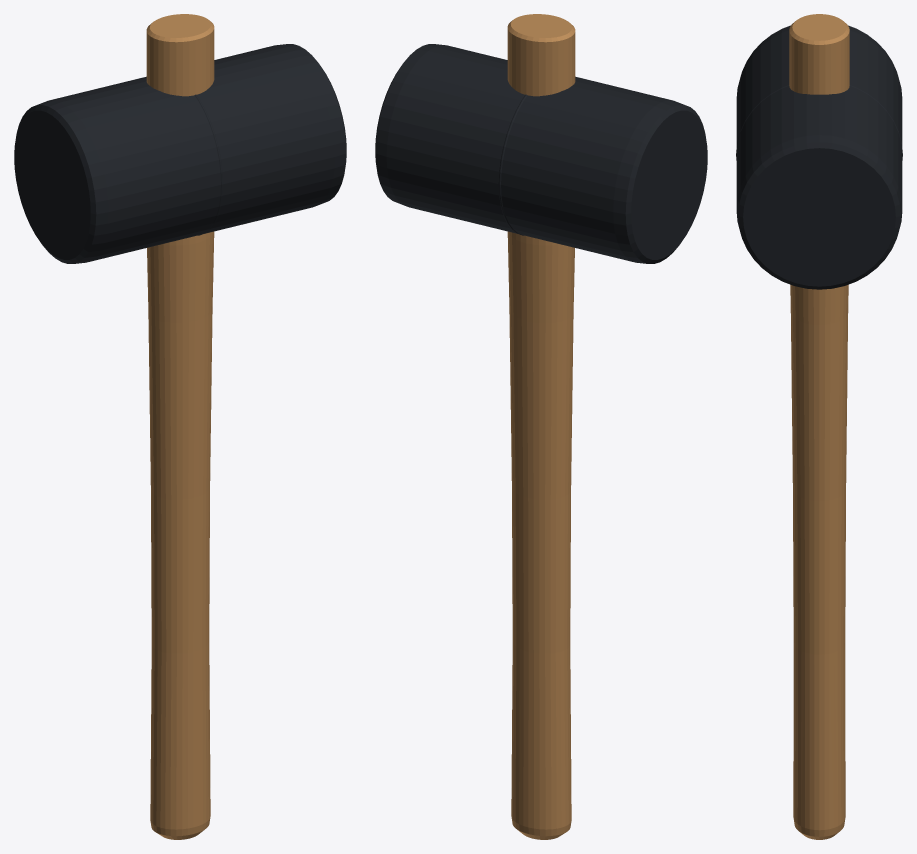
The picture shows the model from 3 angles, left to right: view 1: azimuth 30°, elevation 25°; view 2: azimuth 150°, elevation 25°; view 3: azimuth 270°, elevation 25°; orthographic projection.
Parts seen in each view (by area): view 1: Black_rubber_head_with_through_eye, Continuous_wood_handle_unbranded; view 2: Black_rubber_head_with_through_eye, Continuous_wood_handle_unbranded; view 3: Black_rubber_head_with_through_eye, Continuous_wood_handle_unbranded.
Part boxes in pixels (left/top/right/bottom): Black_rubber_head_with_through_eye: left=14, top=44, right=346, bottom=263; Continuous_wood_handle_unbranded: left=146, top=14, right=214, bottom=839; Black_rubber_head_with_through_eye: left=375, top=44, right=707, bottom=263; Continuous_wood_handle_unbranded: left=507, top=14, right=575, bottom=839; Black_rubber_head_with_through_eye: left=736, top=25, right=902, bottom=289; Continuous_wood_handle_unbranded: left=789, top=14, right=849, bottom=839.
Size of the model in its own units: 0.113 by 0.34 by 0.064.
